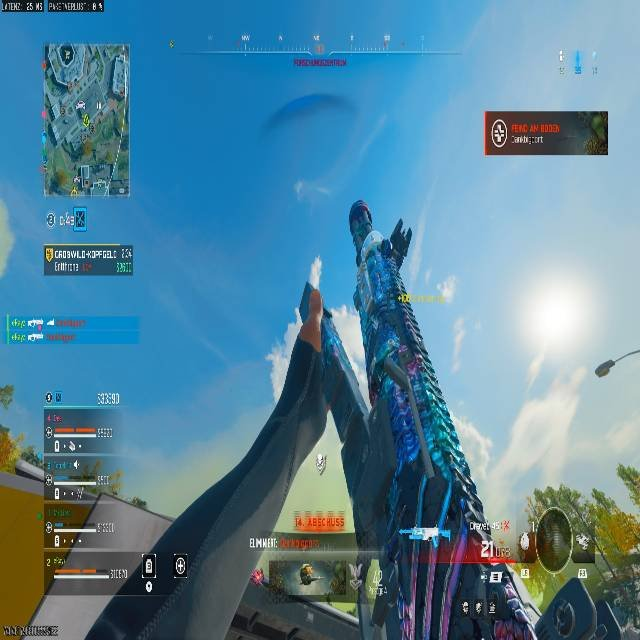head: (527, 508, 577, 571)
player: (505, 506, 602, 639), (249, 567, 265, 588)
